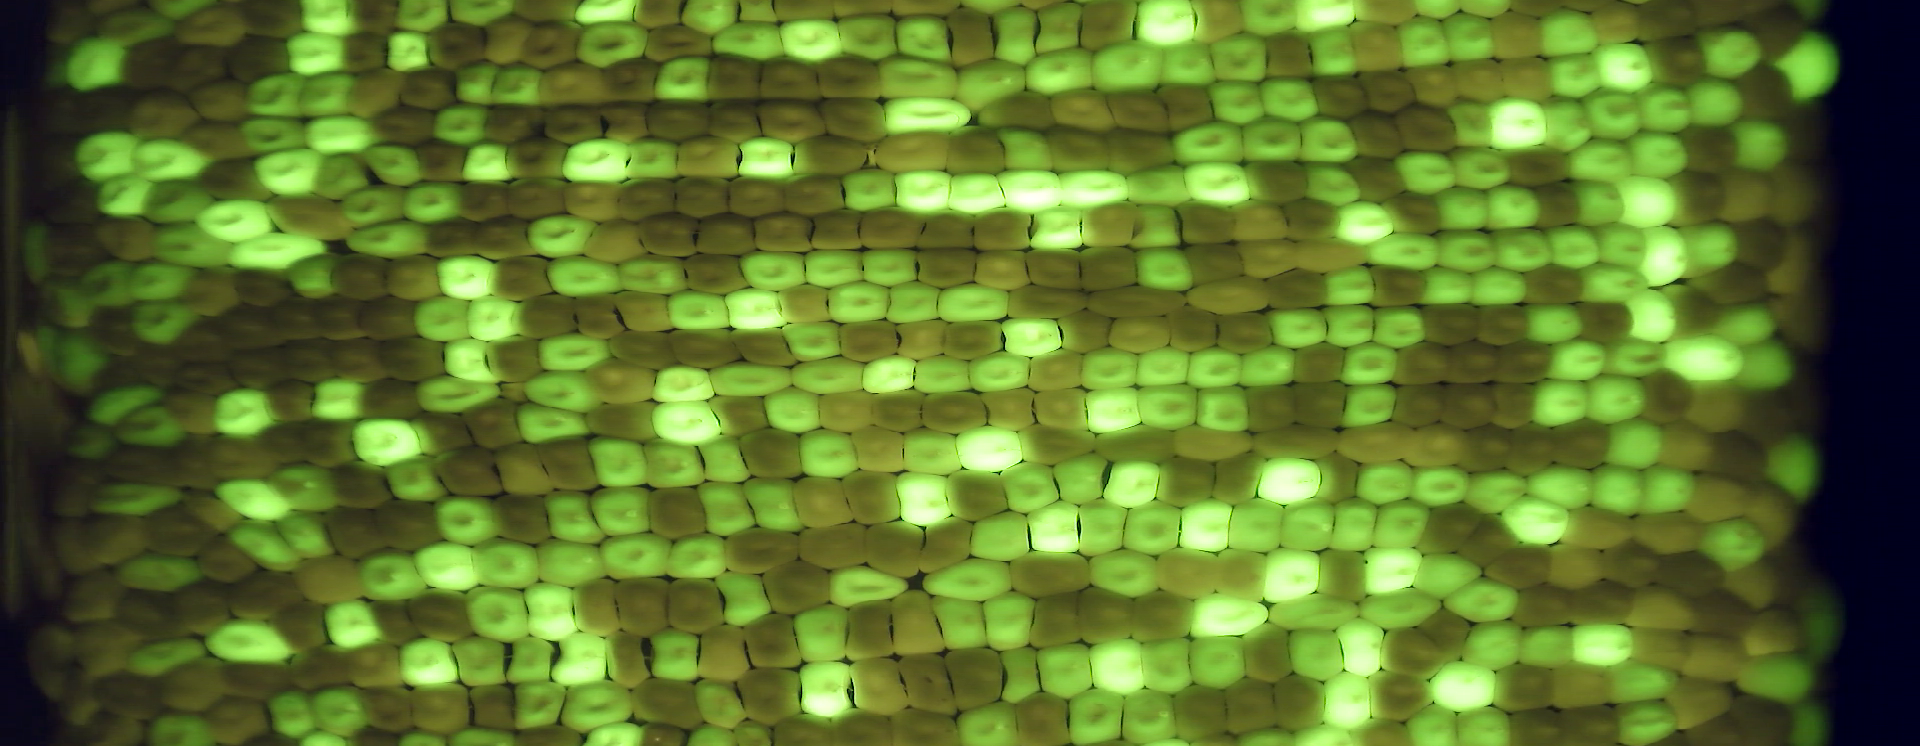fluorescent: (1767, 24, 1847, 107), (198, 610, 302, 669), (1731, 646, 1822, 710), (555, 673, 639, 737), (459, 579, 538, 649), (917, 552, 1020, 605), (220, 514, 305, 577), (348, 543, 432, 605), (223, 232, 333, 279), (1689, 20, 1769, 85), (1763, 428, 1827, 510), (949, 55, 1033, 116), (48, 322, 109, 405), (108, 545, 212, 594), (1787, 584, 1848, 668), (1086, 36, 1171, 96), (1657, 330, 1749, 385), (1693, 514, 1771, 579), (261, 461, 348, 518), (538, 485, 613, 550), (122, 632, 216, 685), (347, 413, 430, 472), (872, 51, 962, 105), (823, 560, 913, 614), (738, 473, 813, 538), (571, 15, 653, 73), (1678, 216, 1749, 283), (1019, 40, 1098, 100), (247, 142, 327, 202), (147, 218, 238, 271), (518, 366, 609, 419), (531, 534, 612, 593), (468, 534, 545, 595), (69, 126, 147, 186), (1408, 548, 1487, 608), (593, 527, 676, 583), (1176, 158, 1262, 212), (1422, 655, 1501, 714), (82, 478, 191, 521), (583, 430, 658, 492), (83, 379, 174, 430), (511, 394, 595, 450), (1607, 171, 1682, 233), (1262, 590, 1368, 635), (1517, 459, 1603, 513), (1440, 573, 1526, 627), (126, 135, 218, 185), (890, 9, 962, 72), (1184, 590, 1273, 642), (378, 452, 458, 510), (879, 92, 975, 140), (988, 120, 1064, 180), (429, 491, 504, 551), (949, 420, 1030, 477), (1498, 492, 1578, 549), (787, 598, 855, 665), (209, 475, 298, 527), (1030, 639, 1098, 706), (996, 454, 1065, 519), (924, 592, 996, 655), (978, 586, 1042, 657), (1482, 93, 1554, 156), (429, 250, 507, 307), (409, 537, 487, 594), (411, 371, 508, 418), (190, 195, 279, 245), (1082, 545, 1162, 601), (272, 505, 348, 563), (1118, 495, 1187, 560), (519, 209, 604, 262), (61, 32, 131, 96), (541, 252, 629, 303), (1679, 72, 1751, 134), (122, 255, 204, 309), (964, 505, 1037, 565), (1577, 370, 1652, 429), (549, 628, 615, 695), (793, 655, 860, 722), (1284, 622, 1351, 688), (693, 477, 760, 541), (1082, 635, 1150, 699), (1733, 334, 1801, 398), (1632, 222, 1695, 292), (1251, 453, 1329, 510), (340, 216, 433, 262), (707, 16, 789, 69), (111, 401, 193, 453), (129, 295, 207, 350), (392, 633, 465, 692), (1599, 657, 1685, 707), (1202, 29, 1277, 87), (1169, 116, 1253, 168), (1362, 225, 1445, 277), (587, 480, 656, 541), (1183, 631, 1253, 692), (1629, 78, 1700, 138), (531, 330, 622, 376), (522, 579, 587, 644), (785, 352, 873, 399), (235, 69, 310, 125), (208, 385, 283, 441), (1460, 465, 1536, 521), (833, 10, 904, 69), (986, 1, 1044, 72), (91, 4, 180, 50), (705, 356, 800, 401), (1234, 111, 1311, 165), (138, 179, 223, 228), (1019, 496, 1084, 560), (1258, 544, 1324, 606), (890, 469, 958, 530), (447, 628, 514, 690), (302, 110, 384, 160), (1573, 260, 1656, 310), (1580, 85, 1648, 145), (1559, 135, 1638, 186), (896, 424, 969, 480), (1223, 492, 1288, 555), (302, 680, 376, 735), (1357, 588, 1449, 632), (1632, 461, 1700, 521), (645, 398, 730, 446), (32, 274, 100, 333), (558, 134, 633, 187), (638, 435, 708, 492), (1588, 39, 1658, 97), (1188, 381, 1258, 439), (820, 277, 896, 330), (773, 315, 852, 365), (1425, 225, 1505, 276), (710, 570, 775, 631), (1534, 91, 1596, 156), (1173, 494, 1238, 555), (1065, 685, 1130, 746), (1584, 461, 1652, 519), (1128, 1, 1206, 51), (1333, 337, 1408, 390), (793, 425, 863, 481), (1329, 194, 1398, 250), (776, 15, 847, 70), (989, 167, 1069, 216), (1073, 496, 1134, 560), (75, 254, 140, 314), (1599, 415, 1664, 475), (1117, 685, 1182, 745), (1300, 20, 1367, 78), (1727, 116, 1793, 175), (426, 97, 493, 154), (1294, 113, 1363, 169), (408, 290, 478, 345), (1706, 300, 1780, 352), (731, 130, 802, 184), (940, 167, 1011, 220), (1131, 379, 1202, 432), (1276, 495, 1340, 555), (688, 675, 754, 733), (1367, 495, 1433, 552), (1151, 39, 1223, 92), (1073, 342, 1145, 394), (758, 381, 825, 437), (397, 176, 470, 228), (1533, 6, 1602, 61), (280, 250, 350, 304), (1128, 241, 1198, 295), (1098, 456, 1168, 510), (951, 696, 1026, 746), (1389, 146, 1463, 196), (1136, 633, 1198, 695), (1318, 668, 1378, 730), (661, 529, 732, 582), (1349, 457, 1420, 510), (1528, 376, 1593, 434), (647, 359, 722, 408), (231, 113, 313, 158), (440, 333, 507, 388), (320, 595, 387, 650), (1626, 127, 1693, 183), (1562, 176, 1630, 232), (613, 251, 693, 298), (1478, 181, 1547, 235), (338, 181, 411, 232), (1539, 334, 1613, 385), (645, 625, 707, 685), (310, 147, 373, 205), (693, 430, 757, 488), (1403, 462, 1478, 511), (665, 285, 736, 337), (1335, 380, 1402, 434), (719, 283, 791, 333), (996, 314, 1071, 361), (1053, 165, 1135, 209), (932, 281, 1014, 325), (360, 138, 429, 191), (1254, 73, 1322, 126), (1427, 183, 1495, 235), (1052, 450, 1112, 510), (651, 50, 713, 109), (1441, 97, 1502, 156), (1609, 697, 1682, 746), (258, 687, 321, 745), (1395, 11, 1452, 73), (833, 164, 902, 216), (889, 164, 959, 216), (1446, 142, 1516, 194), (1120, 160, 1198, 207), (508, 679, 573, 734), (282, 28, 353, 78), (798, 244, 869, 294), (733, 247, 814, 292), (1360, 544, 1427, 598), (1488, 225, 1560, 274), (1620, 289, 1682, 345), (1333, 614, 1389, 677), (88, 171, 158, 222), (304, 372, 373, 423), (1205, 73, 1270, 127), (1458, 619, 1523, 673), (964, 347, 1035, 396), (1262, 305, 1337, 352), (1300, 158, 1368, 209), (1520, 296, 1587, 348), (1031, 1, 1089, 61), (500, 632, 560, 690), (1566, 620, 1638, 668), (618, 132, 684, 184), (880, 277, 947, 328), (1597, 334, 1671, 380), (1022, 205, 1090, 255), (1513, 621, 1581, 671), (294, 67, 358, 120), (484, 59, 549, 110), (1081, 385, 1146, 436), (1313, 301, 1382, 349), (857, 241, 923, 292), (909, 352, 980, 398), (1329, 494, 1382, 555), (992, 643, 1044, 706), (1178, 345, 1247, 393), (1542, 50, 1607, 100), (1589, 219, 1654, 269), (1236, 341, 1300, 391), (1131, 343, 1196, 393), (1440, 6, 1496, 64), (463, 293, 524, 345), (27, 320, 69, 394), (1464, 265, 1533, 310), (458, 136, 518, 187), (1544, 222, 1604, 273), (1368, 300, 1428, 352), (1398, 699, 1464, 746), (1413, 263, 1480, 309), (137, 709, 219, 746), (1127, 203, 1188, 252), (857, 352, 921, 398), (291, 1, 369, 39), (1321, 263, 1382, 310), (451, 56, 502, 111), (18, 218, 58, 290), (381, 28, 436, 78), (675, 1, 744, 40), (1238, 1, 1303, 40), (1453, 706, 1516, 746), (1289, 1, 1360, 37), (29, 40, 73, 96), (389, 1, 456, 36), (573, 717, 649, 746), (442, 1, 518, 29), (568, 1, 643, 29), (443, 723, 519, 746), (389, 723, 458, 746), (729, 1, 786, 24), (1411, 1, 1467, 24)
nonfluorescent: (261, 190, 362, 245), (757, 559, 838, 622), (223, 563, 309, 624), (1763, 289, 1840, 355), (135, 503, 223, 561), (729, 665, 809, 726), (73, 510, 156, 570), (369, 495, 446, 559), (156, 655, 233, 719), (69, 619, 148, 680), (893, 650, 962, 720), (940, 643, 1009, 714), (887, 586, 953, 659), (1007, 549, 1098, 601), (118, 24, 184, 97), (163, 576, 238, 639), (628, 676, 709, 735), (159, 40, 235, 103), (1678, 375, 1753, 437), (719, 523, 804, 578), (1370, 624, 1449, 684), (55, 568, 138, 625), (1662, 674, 1741, 733), (736, 423, 811, 485), (289, 552, 373, 608), (609, 575, 677, 642), (1728, 60, 1798, 126), (842, 653, 913, 718), (860, 516, 932, 579), (430, 442, 507, 501), (489, 439, 560, 502), (531, 432, 602, 496), (1776, 356, 1831, 439), (320, 502, 393, 563), (87, 668, 170, 722), (403, 586, 478, 646), (1763, 222, 1823, 296), (738, 610, 809, 673), (203, 431, 285, 485), (198, 690, 277, 746), (1122, 589, 1200, 646), (513, 15, 587, 75), (323, 456, 398, 514), (1548, 660, 1627, 715), (1665, 165, 1731, 232), (839, 595, 901, 665), (126, 89, 207, 143), (667, 129, 748, 183), (220, 27, 293, 87), (640, 484, 713, 544), (1742, 480, 1802, 552), (503, 290, 585, 343), (80, 304, 153, 363), (1100, 83, 1178, 138), (1654, 282, 1728, 341), (1082, 282, 1189, 322), (662, 573, 729, 638), (1762, 160, 1828, 225), (1412, 605, 1479, 669), (1207, 544, 1275, 608), (18, 136, 88, 197), (838, 467, 907, 528), (1624, 510, 1713, 557), (216, 655, 302, 704), (1651, 548, 1731, 600), (1179, 274, 1278, 317), (1622, 579, 1700, 635), (1365, 670, 1442, 725), (1638, 32, 1711, 91), (1489, 659, 1561, 718), (1101, 125, 1183, 176), (913, 512, 978, 577), (1269, 670, 1333, 735), (1218, 673, 1283, 737), (1687, 261, 1776, 309), (939, 467, 1014, 523), (1149, 545, 1223, 601), (693, 619, 756, 686), (796, 518, 876, 571), (789, 473, 858, 533), (1739, 601, 1809, 661), (1703, 428, 1776, 485), (533, 58, 610, 111), (482, 251, 560, 305), (664, 321, 744, 372), (1477, 540, 1558, 592), (869, 127, 956, 175), (787, 130, 872, 179), (193, 157, 278, 206), (1735, 385, 1799, 450), (1389, 100, 1463, 156), (39, 220, 108, 281), (407, 680, 475, 740), (1453, 510, 1522, 570), (1015, 421, 1108, 465), (1681, 470, 1751, 529), (1554, 503, 1642, 550), (1414, 500, 1484, 559), (174, 486, 253, 538), (1237, 157, 1316, 208), (373, 332, 449, 386), (1676, 633, 1752, 687), (1727, 688, 1798, 746), (1244, 424, 1348, 463), (944, 1, 1000, 73), (69, 82, 141, 138), (338, 638, 410, 695), (918, 386, 996, 439), (1505, 579, 1578, 635), (818, 93, 893, 147), (1671, 122, 1742, 179), (576, 216, 651, 268), (580, 355, 660, 405), (1090, 423, 1180, 467), (1637, 366, 1700, 430), (1169, 682, 1234, 744), (853, 202, 931, 254), (1153, 78, 1220, 138), (143, 446, 224, 495), (458, 397, 527, 454), (176, 115, 261, 162), (633, 208, 703, 265), (1336, 421, 1420, 468), (1000, 281, 1095, 322), (1547, 416, 1618, 472), (1044, 85, 1120, 136), (1562, 577, 1638, 628), (47, 516, 107, 581), (1024, 590, 1089, 650), (1011, 688, 1079, 746), (1652, 416, 1719, 474), (284, 639, 358, 692), (487, 492, 557, 548), (263, 599, 333, 654), (973, 89, 1060, 134), (1351, 64, 1422, 118), (1076, 584, 1139, 646), (1043, 122, 1116, 175), (88, 213, 160, 266), (421, 20, 490, 75), (580, 398, 661, 445), (1431, 379, 1501, 432), (1238, 621, 1298, 684), (754, 97, 833, 145), (1713, 167, 1777, 225), (478, 332, 549, 385), (1071, 241, 1142, 294), (751, 56, 827, 105), (602, 327, 684, 372), (812, 51, 884, 103), (225, 343, 298, 394), (175, 267, 242, 322), (469, 214, 542, 265), (611, 174, 681, 227), (378, 252, 448, 305), (343, 64, 405, 122), (567, 576, 624, 639), (1204, 450, 1267, 507), (1500, 143, 1578, 190), (1493, 50, 1559, 105), (943, 124, 1010, 178), (1288, 379, 1356, 432), (689, 209, 762, 260), (405, 407, 478, 457), (192, 535, 264, 586), (1313, 545, 1371, 606), (21, 383, 80, 445), (27, 85, 89, 142), (593, 55, 662, 107), (1027, 385, 1097, 436), (1178, 239, 1248, 290), (328, 249, 393, 304), (298, 416, 362, 472), (1156, 454, 1221, 510), (639, 96, 714, 143), (351, 375, 426, 423), (1687, 589, 1758, 639), (324, 336, 391, 390), (845, 423, 911, 477), (1074, 1, 1140, 55), (305, 292, 372, 344), (1343, 152, 1411, 205), (1418, 298, 1485, 350), (778, 170, 850, 219), (351, 292, 424, 341), (677, 251, 753, 298), (725, 323, 801, 370), (218, 300, 287, 352), (568, 287, 628, 345), (1259, 24, 1318, 85), (1456, 421, 1518, 478), (640, 21, 720, 65), (744, 207, 818, 255), (1720, 560, 1784, 615), (118, 586, 182, 639), (369, 100, 440, 149), (722, 171, 793, 220), (609, 285, 680, 334), (227, 265, 301, 311), (353, 684, 420, 735), (1598, 539, 1665, 590), (1515, 262, 1587, 310), (1622, 622, 1695, 670), (127, 338, 189, 394), (1277, 195, 1346, 245), (1172, 198, 1240, 249), (909, 245, 984, 290), (185, 78, 255, 127), (703, 390, 773, 439), (1233, 233, 1303, 282), (1400, 420, 1473, 467), (1384, 379, 1449, 431), (1761, 543, 1813, 608), (156, 388, 222, 440), (1543, 539, 1609, 590), (1168, 423, 1258, 461), (500, 135, 571, 183), (558, 176, 626, 227), (1052, 306, 1119, 356), (1348, 16, 1404, 76), (811, 388, 883, 435), (273, 338, 342, 387), (1378, 189, 1446, 238), (1309, 70, 1373, 122), (1400, 60, 1464, 111), (1078, 198, 1142, 250), (1344, 110, 1411, 160), (1213, 309, 1280, 359), (169, 6, 249, 48), (413, 134, 473, 189), (702, 53, 763, 107), (969, 205, 1036, 254), (1025, 345, 1092, 394), (364, 597, 425, 650), (1730, 220, 1791, 274), (1488, 336, 1555, 385), (936, 318, 1010, 363), (1288, 235, 1371, 274), (835, 318, 905, 365), (171, 318, 238, 367), (1780, 99, 1829, 165), (1502, 423, 1561, 478), (1487, 9, 1547, 62), (1240, 383, 1300, 437), (538, 100, 609, 146), (502, 176, 573, 222), (169, 360, 249, 401), (866, 385, 933, 432), (419, 214, 482, 265), (1020, 246, 1089, 293), (885, 706, 964, 746), (1104, 314, 1178, 356), (890, 315, 953, 365), (1471, 300, 1533, 350), (807, 206, 871, 255), (776, 281, 840, 330), (604, 627, 653, 691), (98, 445, 175, 485), (478, 13, 535, 67), (465, 681, 523, 735), (1228, 197, 1293, 245), (1573, 300, 1638, 348), (1551, 703, 1624, 746), (913, 206, 980, 252), (667, 174, 733, 220), (1367, 263, 1433, 310), (978, 385, 1040, 435), (827, 706, 902, 746), (40, 176, 103, 225), (1391, 341, 1453, 390), (1632, 1, 1700, 47), (1187, 1, 1250, 49), (1483, 377, 1538, 432), (28, 616, 84, 670), (268, 294, 327, 345), (480, 103, 545, 149), (1439, 339, 1501, 387), (1445, 58, 1509, 104), (1502, 703, 1571, 746), (39, 5, 100, 53), (397, 66, 459, 113), (1287, 341, 1349, 387), (1164, 305, 1221, 356), (970, 247, 1033, 293), (708, 99, 767, 148), (238, 1, 309, 42), (1527, 183, 1584, 232), (1313, 450, 1364, 503), (262, 377, 318, 426), (457, 178, 516, 224), (768, 708, 839, 746), (256, 421, 313, 468), (43, 473, 100, 519), (73, 710, 148, 746), (87, 354, 152, 394), (340, 29, 393, 77), (1588, 1, 1641, 49), (1347, 713, 1420, 746), (1682, 713, 1751, 746), (601, 100, 651, 145), (348, 1, 400, 40), (48, 453, 111, 485), (627, 717, 693, 746), (504, 1, 583, 24), (508, 723, 587, 746), (1349, 1, 1419, 27), (629, 1, 684, 33), (771, 1, 842, 24), (492, 377, 531, 407)
